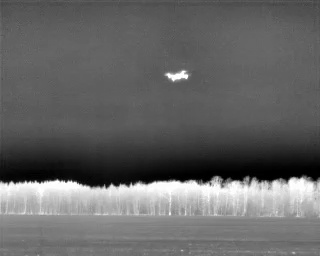DRONE: (162, 65, 194, 86)
